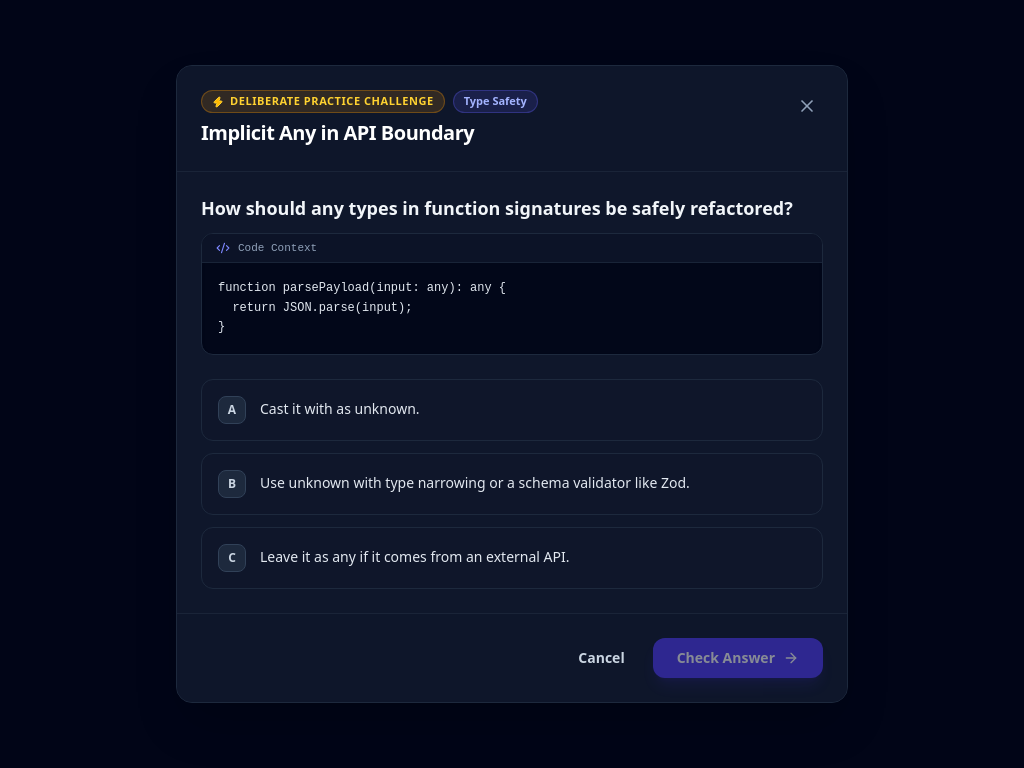
Test case: ChallengeModal component › enables the "Check Answer" button after selecting an answer option
Expected: the button "Check Answer" is disabled, 653,638 -> 823,678
Click the text "Use unknown with type narrowing or a schema validator like Zod.": (475, 482) 260,473 -> 690,492
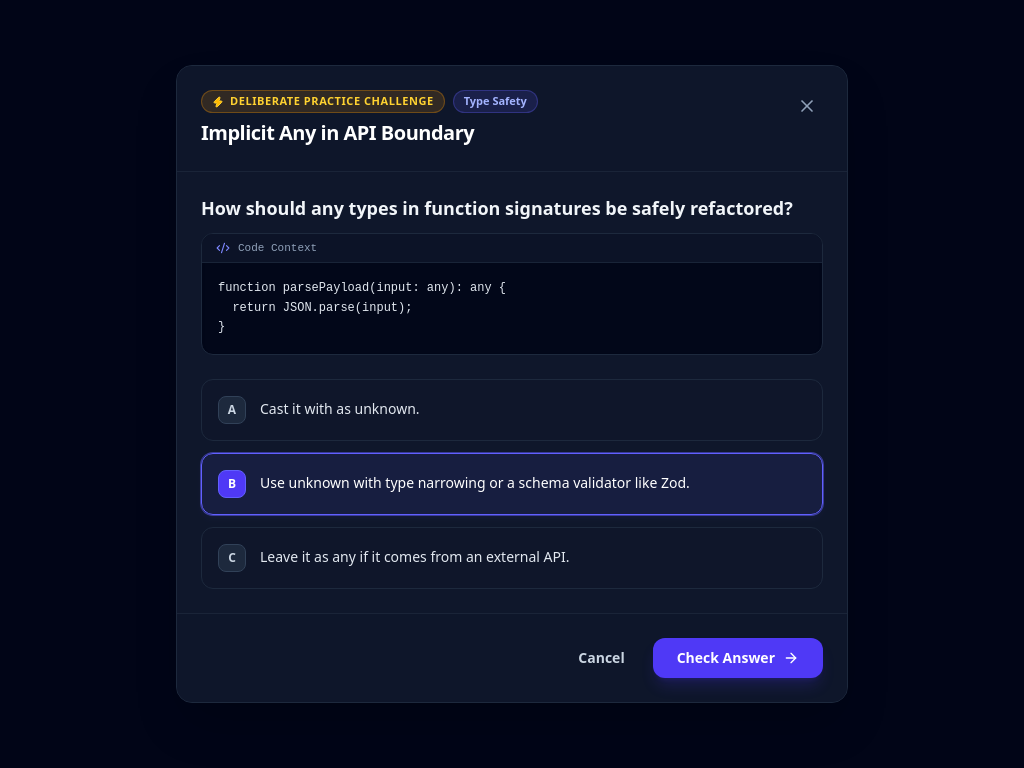
Result: the button "Check Answer" is enabled at 653,638 -> 823,678
